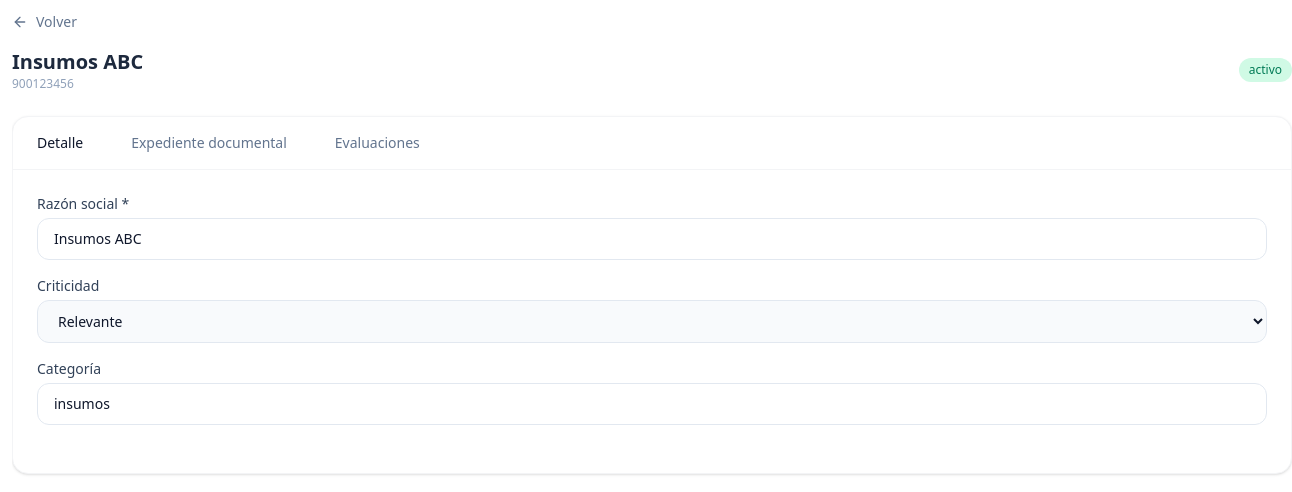
Test: ProveedorDetalle › hides "Subir documento" and "Eliminar" when the user lacks the editar permission
Expected: the heading "Insumos ABC" is shown, [12,48,143,76]
Click the tab "Expediente documental" at (209, 143), box [107,117,311,169]
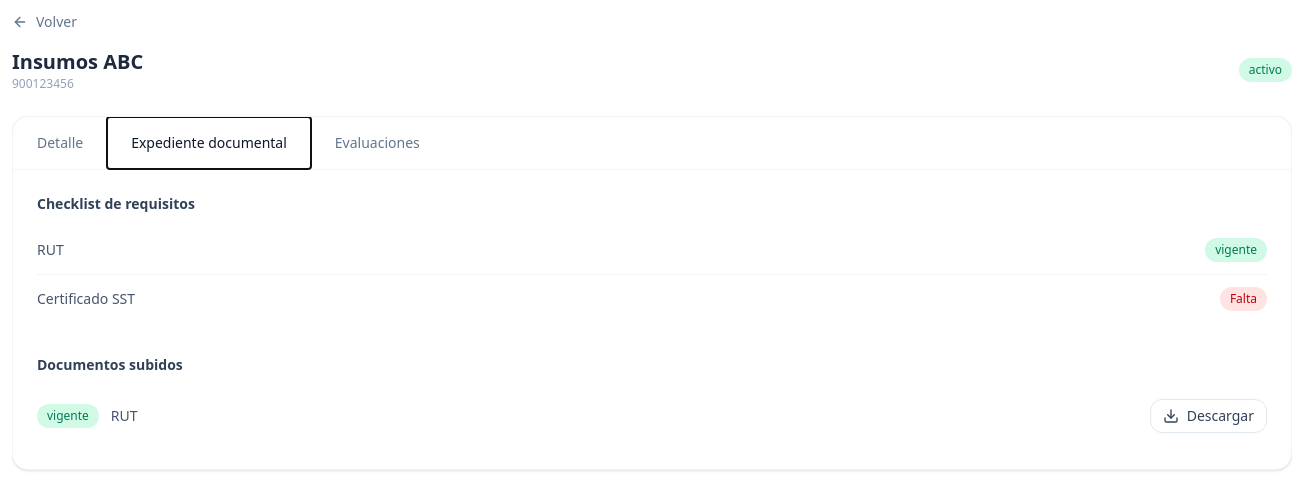
Expected: the heading "Documentos subidos" is shown, [37,355,183,374]
